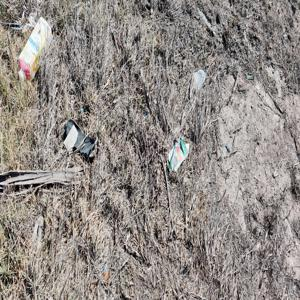cardboard: (15, 18, 58, 85), (161, 130, 199, 176)
metal: (64, 117, 106, 161)
